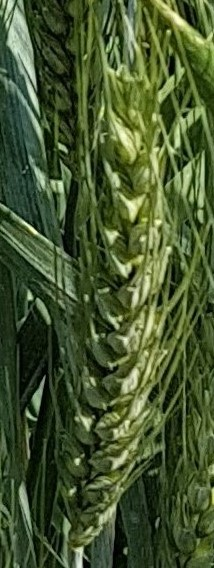Healthy Wheat: (65, 55, 175, 520)
